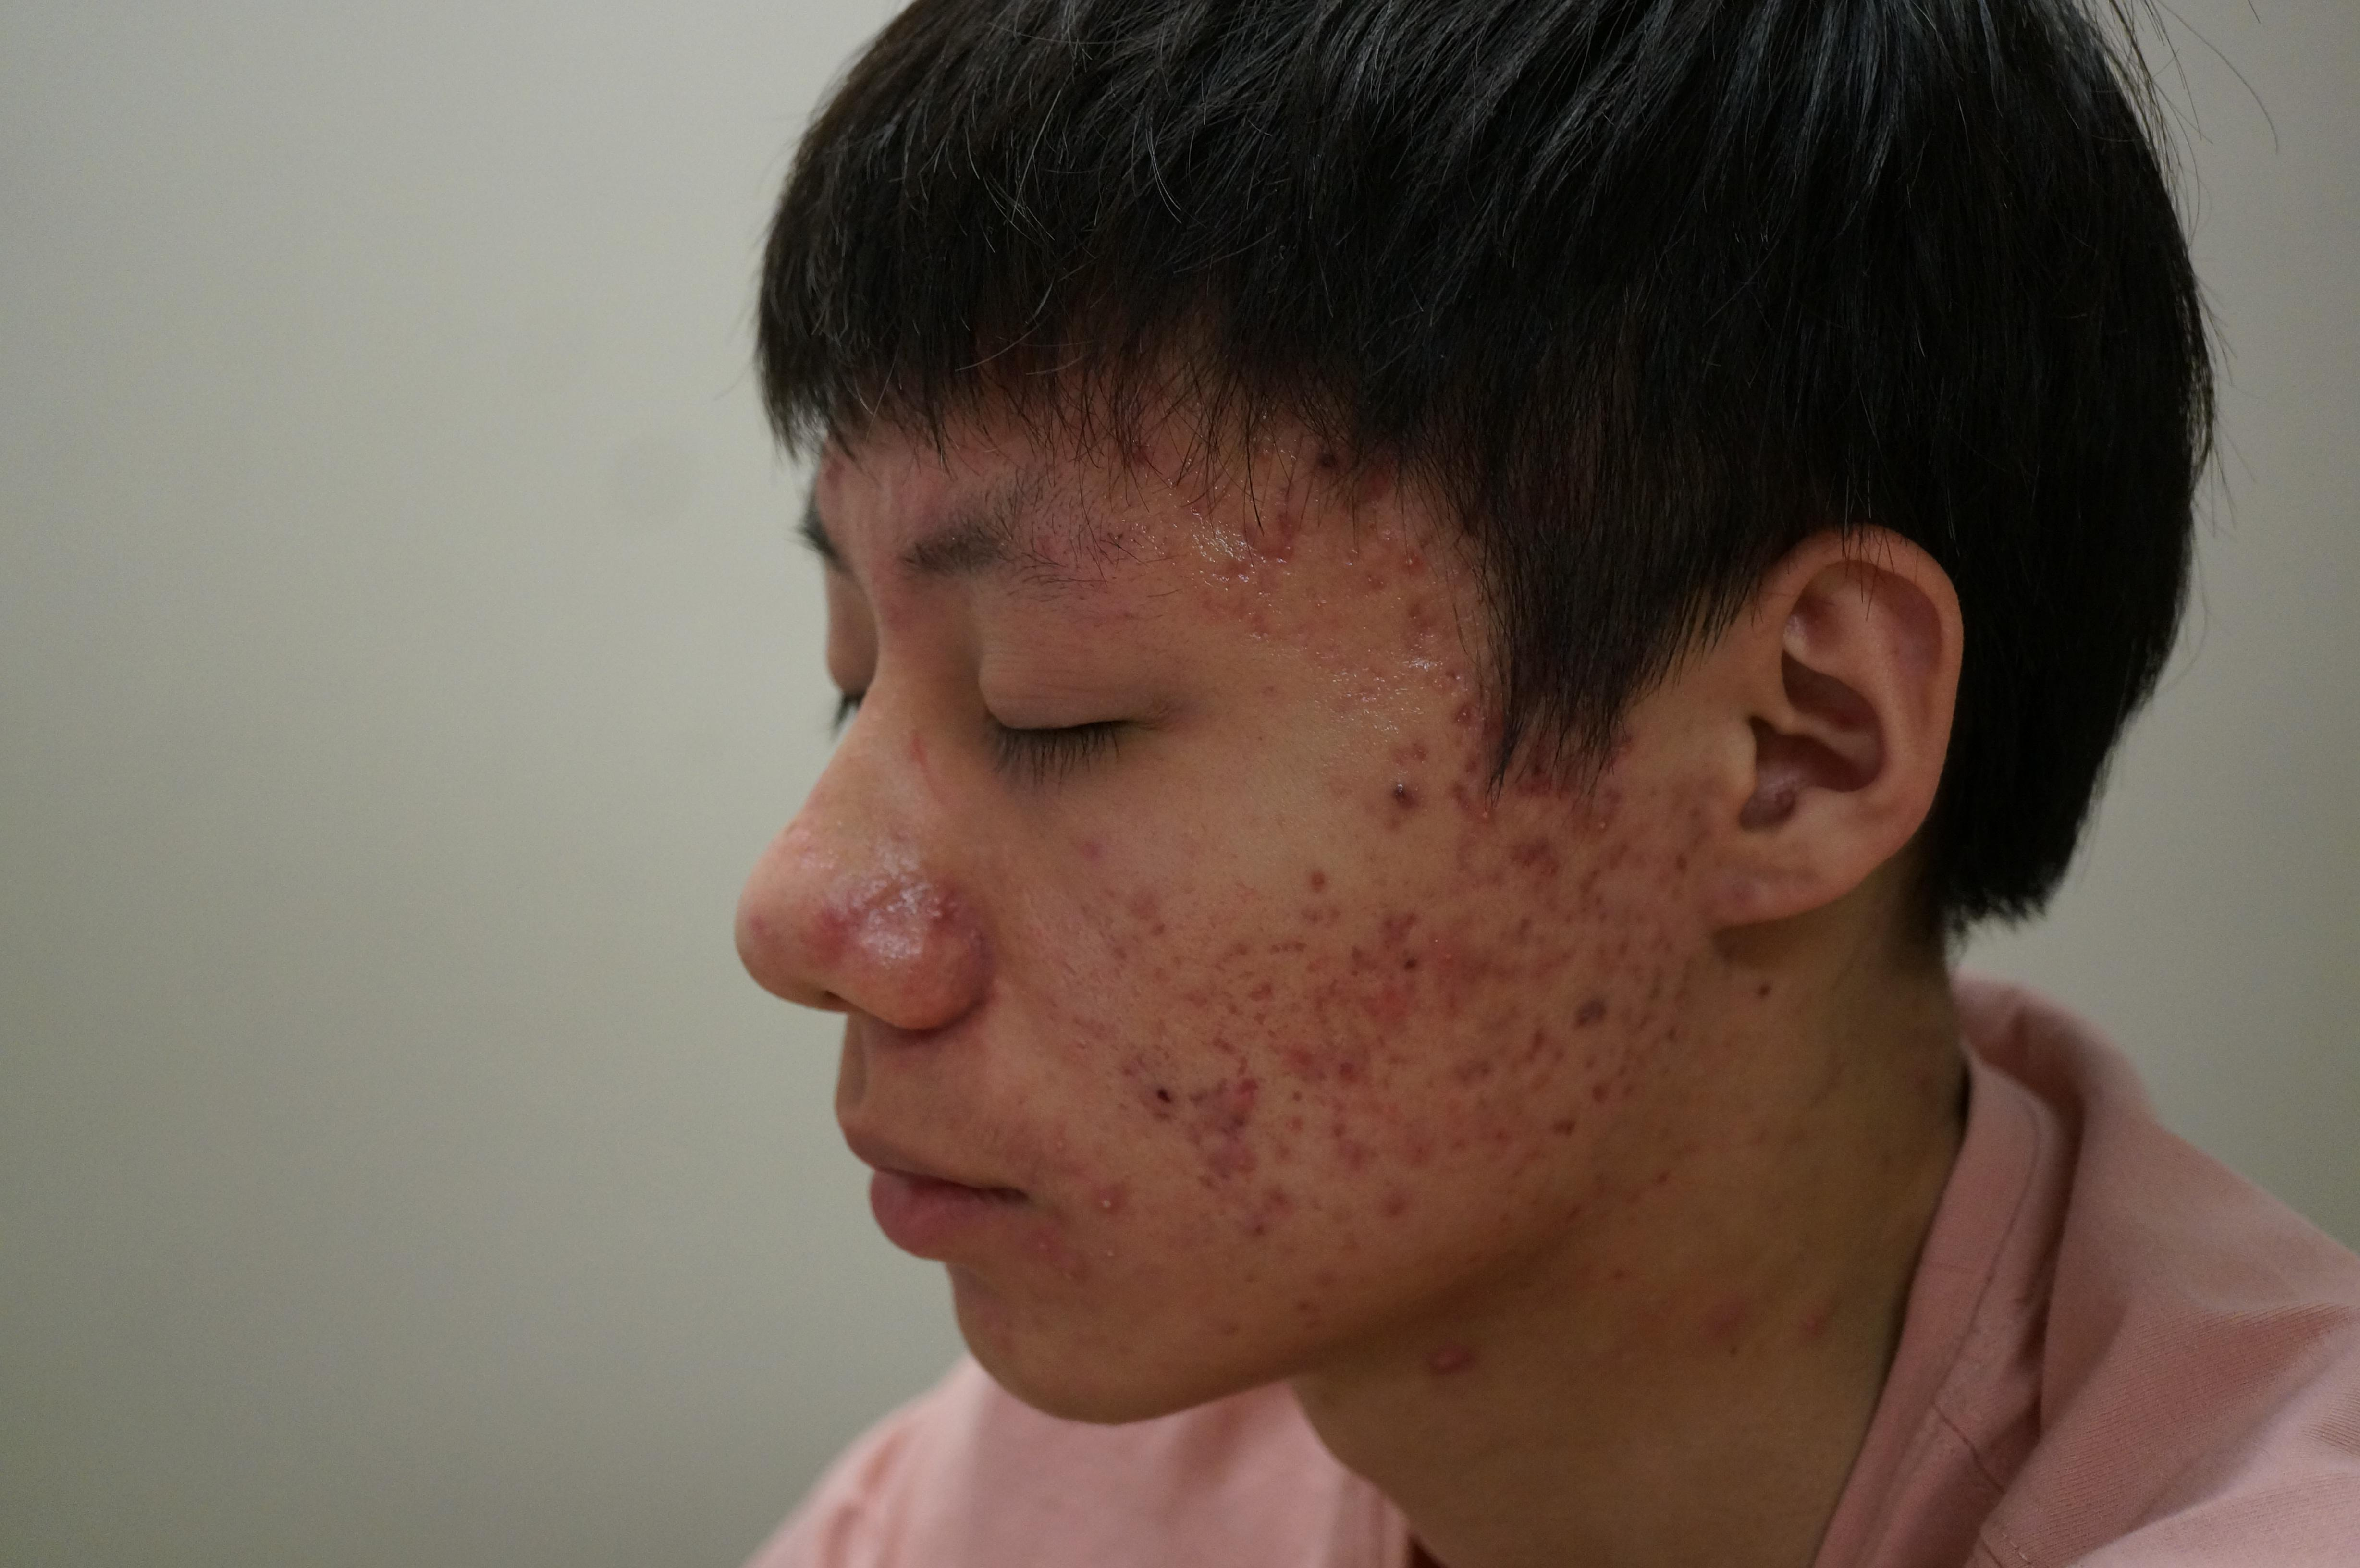fore: (1352, 541, 1468, 653), (1221, 465, 1328, 565), (1573, 973, 1679, 1064), (1471, 948, 1583, 1017), (1433, 1073, 1520, 1148), (1417, 945, 1492, 1029), (1085, 1157, 1153, 1248), (1181, 1120, 1261, 1197), (799, 894, 864, 982), (1261, 1017, 1328, 1095), (1277, 856, 1352, 924), (1489, 1024, 1601, 1069), (1240, 1176, 1312, 1244), (1347, 434, 1414, 506), (850, 859, 915, 928), (1576, 780, 1636, 852), (1193, 1064, 1249, 1139), (1496, 836, 1557, 896), (1568, 866, 1627, 928), (908, 877, 973, 933), (1368, 1144, 1417, 1216), (1417, 658, 1471, 721), (1419, 1335, 1478, 1389), (1337, 1085, 1380, 1157), (1104, 429, 1167, 478), (1125, 1032, 1165, 1108), (1375, 892, 1431, 945), (1090, 924, 1139, 983), (1202, 542, 1261, 591), (1370, 1027, 1431, 1074), (1237, 968, 1291, 1020), (1326, 1046, 1384, 1095), (1340, 964, 1393, 1017), (1543, 1102, 1595, 1155), (1300, 436, 1354, 486), (1211, 922, 1267, 971), (1498, 899, 1550, 950), (1386, 525, 1440, 574), (1177, 973, 1246, 1011), (1601, 926, 1651, 977), (1576, 1069, 1623, 1122), (1116, 875, 1170, 920), (1382, 730, 1440, 772), (1662, 843, 1702, 903), (1433, 773, 1480, 822), (1265, 922, 1317, 964), (1447, 744, 1501, 780), (1037, 1123, 1085, 1165), (1071, 826, 1114, 870), (1286, 1288, 1326, 1335), (1303, 1256, 1354, 1293), (1137, 915, 1186, 952), (1330, 1230, 1373, 1270), (1211, 1316, 1258, 1353), (1142, 957, 1184, 998), (1356, 929, 1408, 957), (1471, 796, 1505, 840), (1022, 1234, 1062, 1263)
